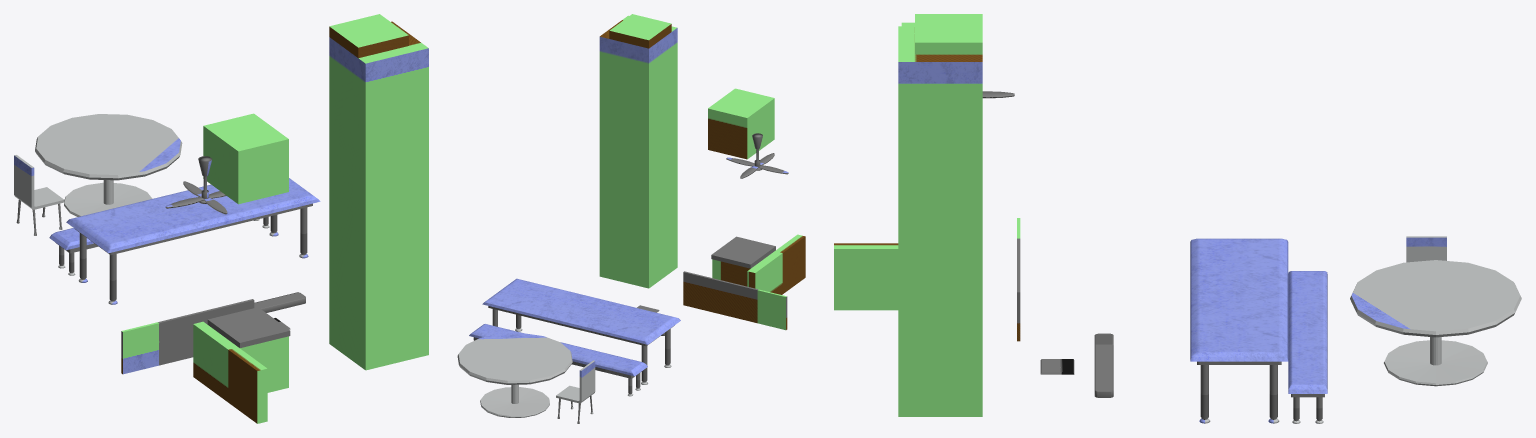
File: Modular Assets.fbx
3 views of the same model, side by side, from view 1: azimuth 30°, elevation 25°; view 2: azimuth 150°, elevation 25°; view 3: azimuth 270°, elevation 25° (orthographic). The views are drawn at different scales.
Parts seen in each view (by area): view 1: pillar, round_table, table_base, stall_top, stall_name, stall_bottom, stall_wall, ceiling, stall_divider, chair, fan_blades, light (+3 smaller); view 2: pillar, round_table, table_base, stall_top, stall_name, stall_bottom, chair_base, ceiling, stall_wall, stall_divider, chair, fan_blades; view 3: pillar, round_table, table_base, chair_base, stall_wall, ceiling, light, chair.
Boxes of the visible parts, x1,y1,x2,y2 form: pillar: (329,21,428,370); round_table: (35,114,182,216); table_base: (66,178,320,255); stall_top: (203,113,288,204); stall_name: (121,299,254,374); stall_bottom: (207,307,290,392); stall_wall: (228,347,267,423); ceiling: (329,14,408,58); stall_divider: (193,321,237,402); chair: (14,155,64,235); fan_blades: (165,181,227,214); light: (254,292,305,312); pillar: (599,15,677,288); round_table: (457,333,572,417); table_base: (482,278,680,346); stall_top: (708,88,774,159); stall_name: (683,271,787,330); stall_bottom: (711,236,775,286); chair_base: (469,324,647,378); ceiling: (609,14,671,48); stall_wall: (775,234,805,293); stall_divider: (747,251,782,294); chair: (556,360,595,423); fan_blades: (726,153,788,178); pillar: (898,26,982,416); round_table: (1350,260,1521,386); table_base: (1190,238,1288,364); chair_base: (1288,271,1327,397); stall_wall: (834,243,898,310); ceiling: (915,14,982,54); light: (1094,333,1113,397); chair: (1406,236,1446,262).
Bounding box in the file's own units: 5.4 × 6.03 × 10.18.
